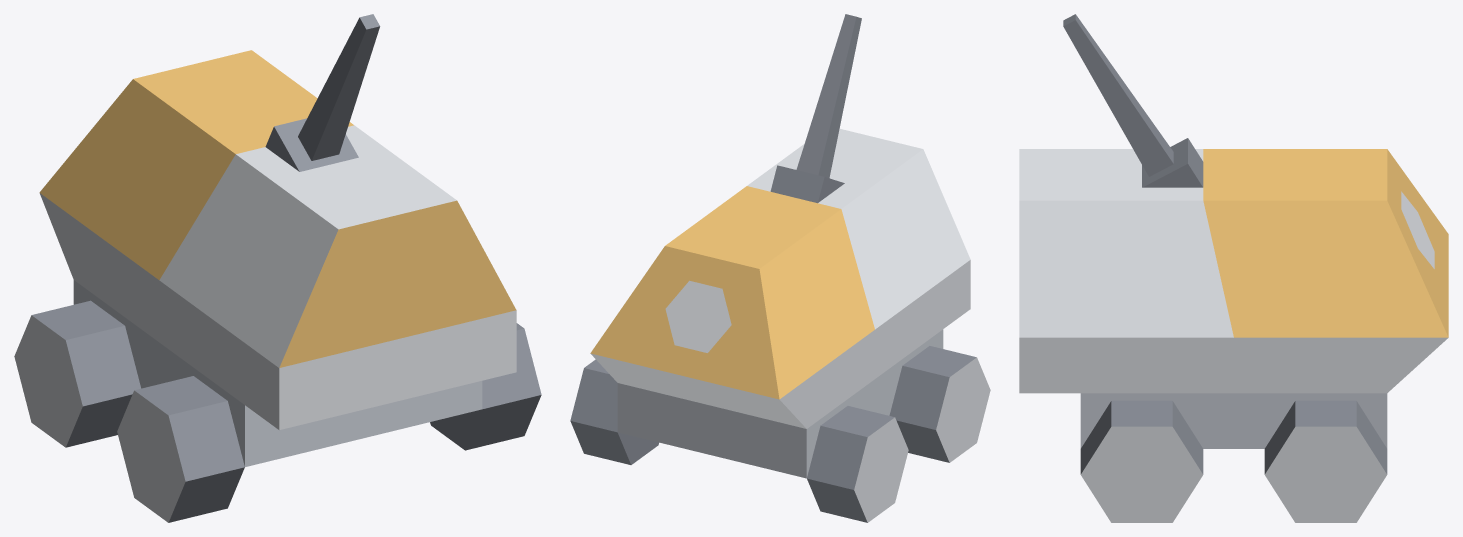
File: rover.glb
The picture shows the model from 3 angles, left to right: view 1: azimuth 30°, elevation 25°; view 2: azimuth 150°, elevation 25°; view 3: azimuth 270°, elevation 25°; orthographic projection. The views are drawn at different scales.
Visible parts, largest first — view 1: rover; view 2: rover; view 3: rover.
Boxes of the visible parts, box(x1,y1,x2,y2) form: rover: box(14, 14, 541, 522); rover: box(570, 14, 990, 522); rover: box(1019, 14, 1448, 522).
Size of the model in its own units: 0.3 by 0.3853 by 0.35.
Materials: 1 (1 with a texture image).
